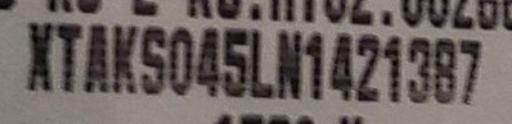letter: (104, 20, 144, 94), (296, 27, 334, 103), (190, 21, 226, 97), (21, 18, 57, 91), (52, 19, 88, 92), (273, 25, 307, 101), (136, 23, 172, 93), (218, 25, 252, 97), (244, 26, 278, 98), (353, 29, 385, 105), (81, 19, 113, 93), (328, 31, 358, 103), (405, 34, 435, 106), (430, 34, 458, 107), (168, 24, 196, 96), (382, 30, 408, 106), (456, 37, 484, 105)
